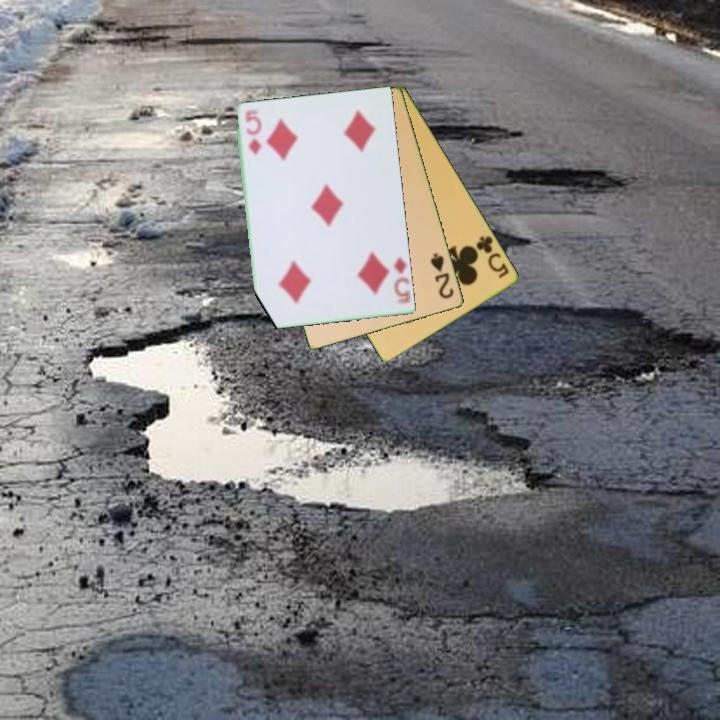2s: (427, 250, 457, 302)
5c: (473, 232, 512, 281)
5d: (391, 253, 413, 308), (241, 107, 262, 158)
